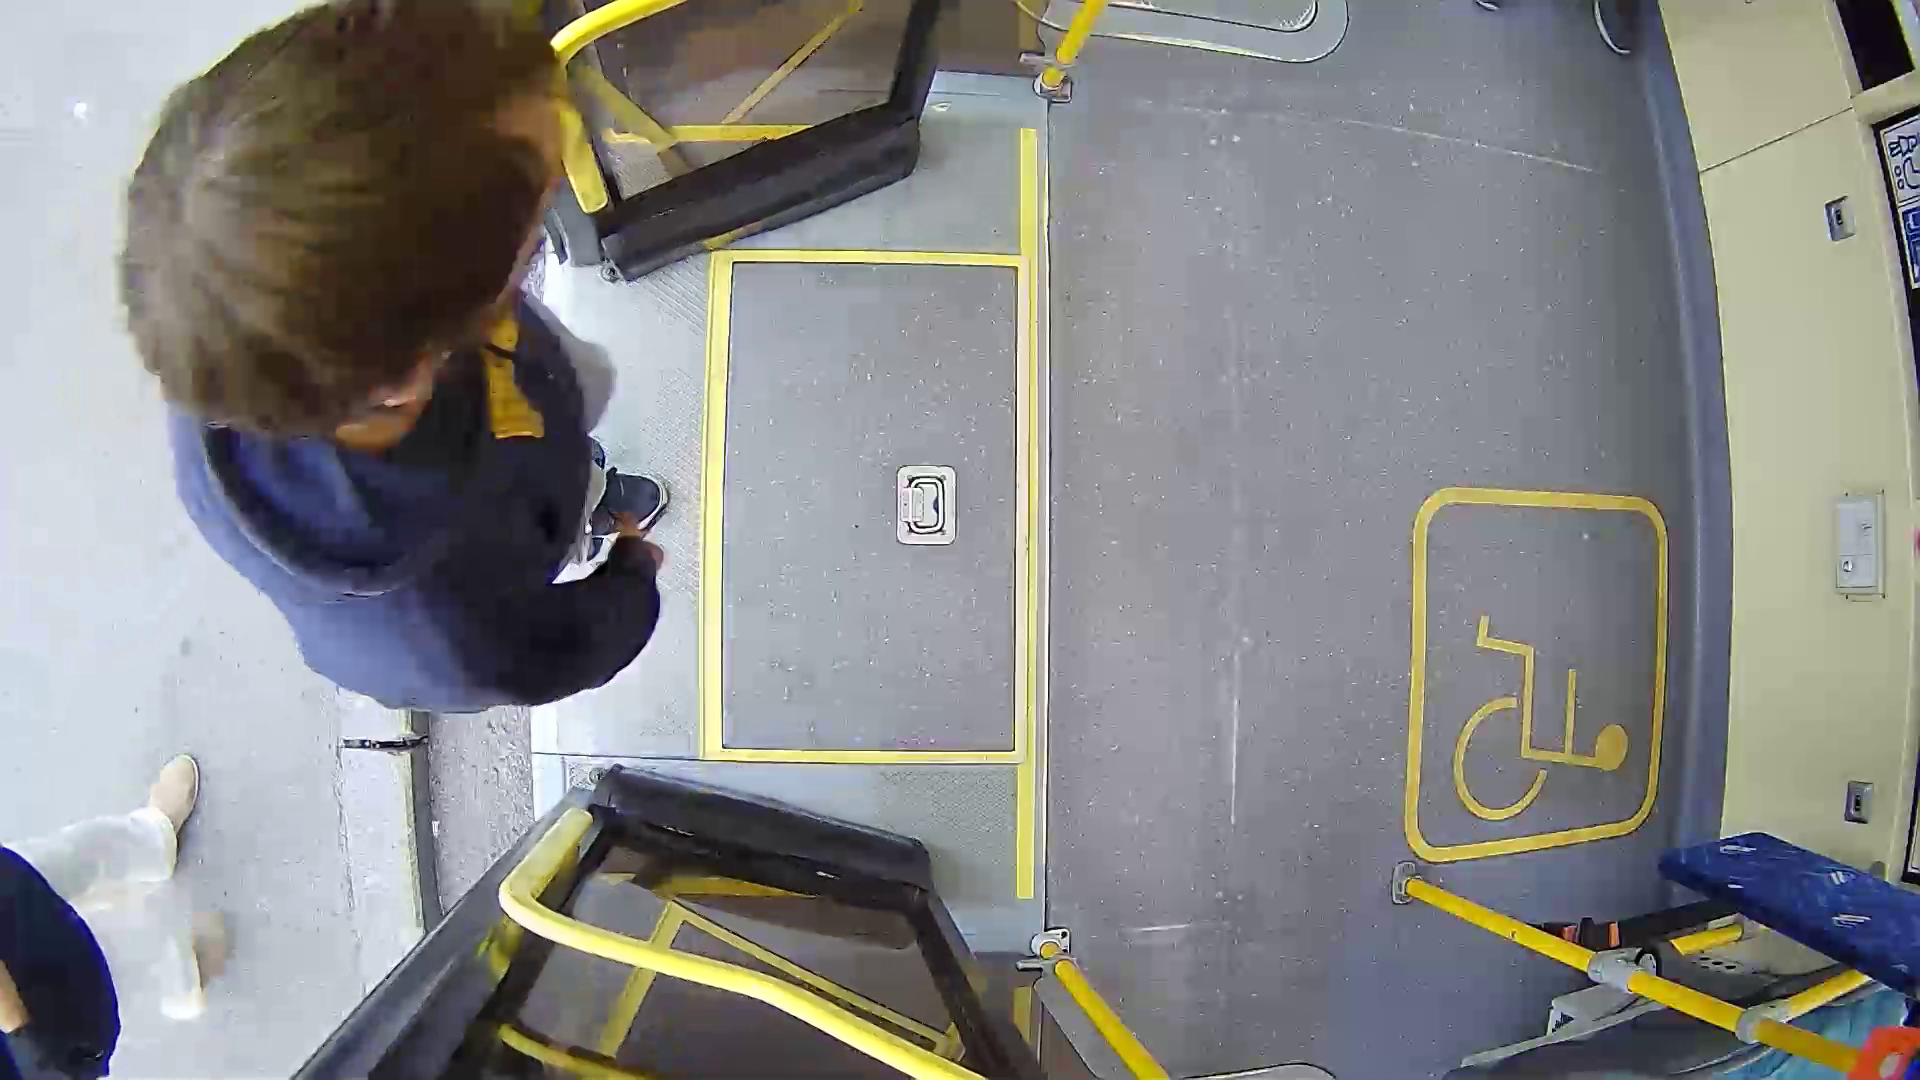person: (115, 33, 730, 681)
